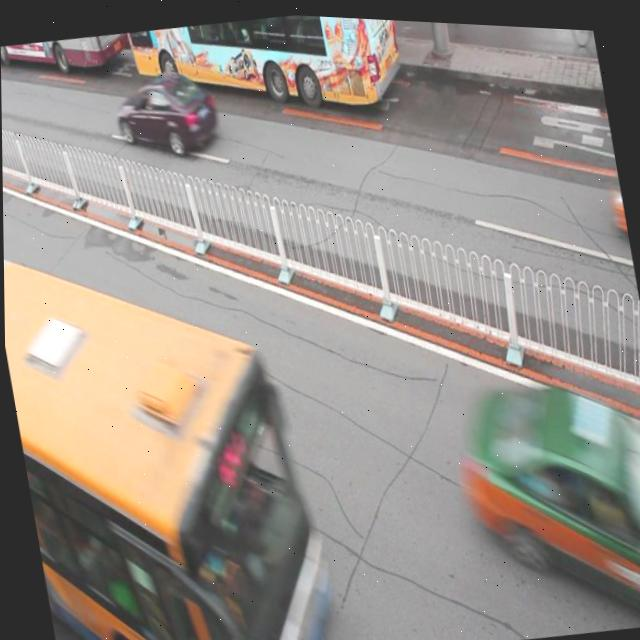car: (460, 351, 640, 640), (111, 61, 222, 163)
van: (2, 199, 333, 640), (125, 5, 407, 137), (0, 27, 132, 87)
